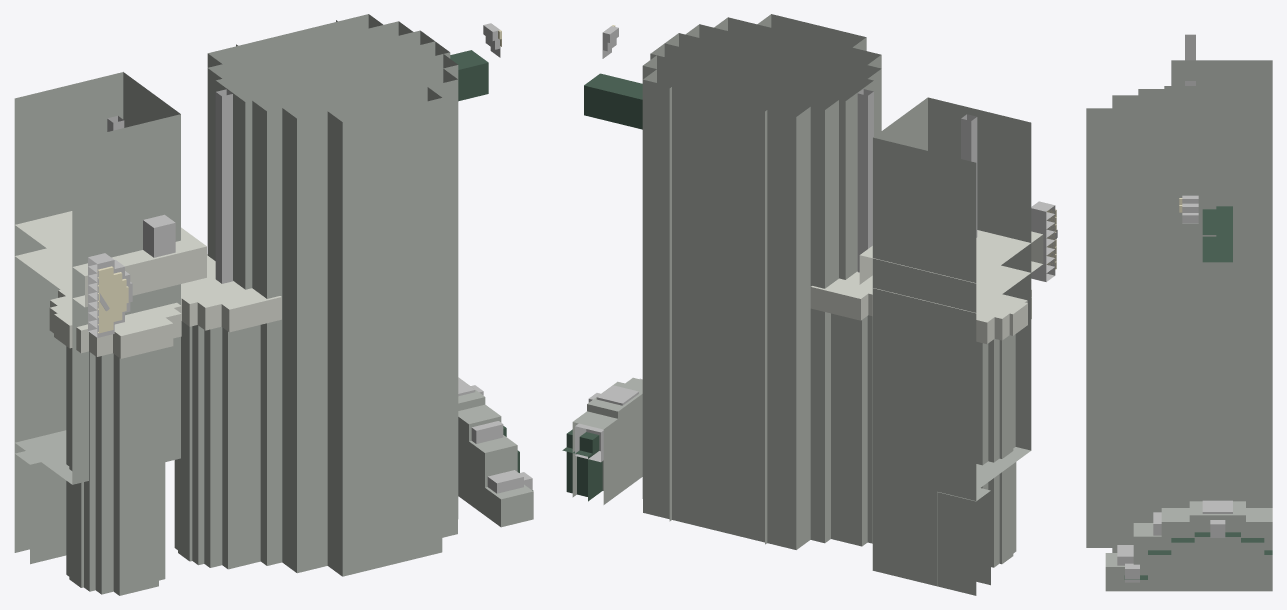
Rendered from cell_22.obj.
3 views of the same model, side by side, from view 1: azimuth 30°, elevation 25°; view 2: azimuth 150°, elevation 25°; view 3: azimuth 270°, elevation 25° (orthographic). The views are drawn at different scales.
Size of the model in its own units: 1 by 1 by 0.425.
